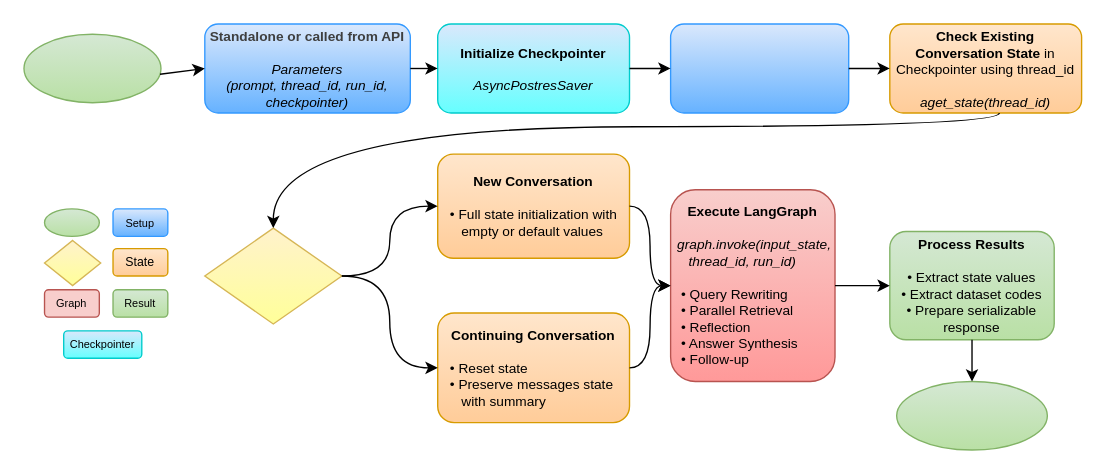
Some shapes in this 1106 by 474 pixel diagram are drawn without their labels. The shapes that lost their labels are listed below. From the top down, each one's centre as x and y in pixels, then its label:
pixel 92 68: main() Entry
pixel 759 68: Create LangGraph Graph with Checkpointer create_graph(checkpointer)
pixel 71 222: Start/End
pixel 72 262: Decision
pixel 272 275: New or Continuing?
pixel 971 415: Return Result
